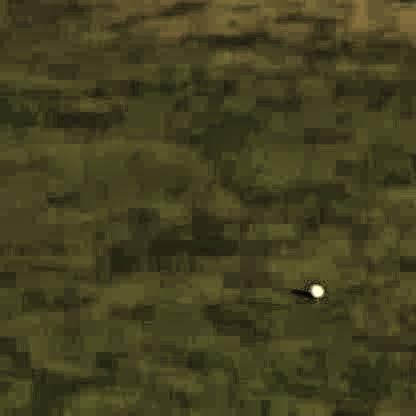golfball: (306, 282, 322, 295)
